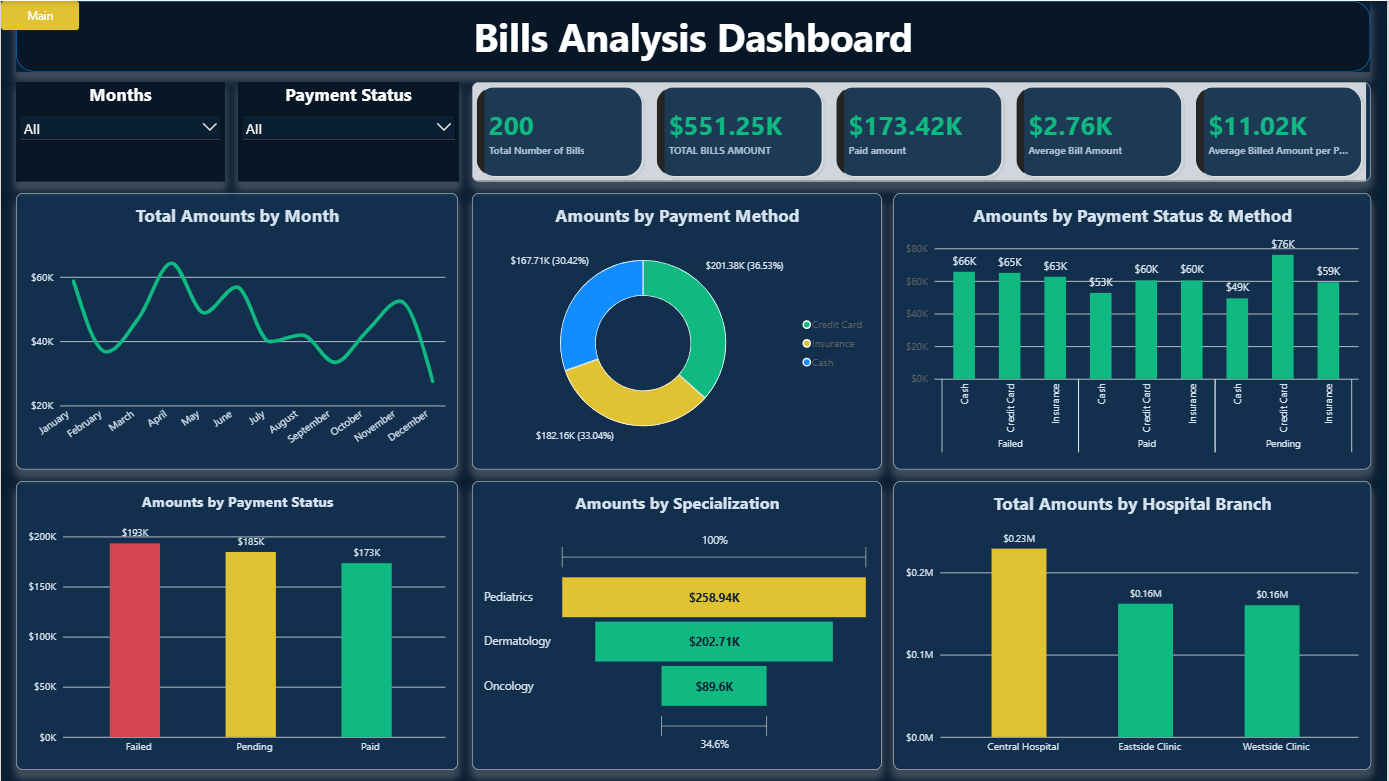

This screenshot's page, from the dashboard's own definition file:
{"tool":"powerbi","page":{"name":"BILLS","canvas":[1920,1080],"ordinal":4},"visuals":[{"type":"columnChart","title":"Amounts by Payment Status","fields":{"Category":["public bills.payment_status"],"Y":["Sum(public bills.amount)"]},"box":[21.3,665.4,612.3,399.7],"z":0},{"type":"columnChart","title":"Total Amounts by Hospital Branch","fields":{"Category":["public doctors.hospital_branch"],"Y":["Table.TOTAL BILLS AMOUNT"]},"box":[1235.2,665.4,661.2,399.7],"z":1000},{"type":"lineChart","title":"Total Amounts by Month","fields":{"Category":["public bills.bill_date.Variation.Date Hierarchy.Month"],"Y":["Sum(public bills.amount)"]},"box":[21.3,265.7,612.3,382.7],"z":2000},{"type":"donutChart","title":"Amounts by Payment Method","fields":{"Category":["public bills.payment_method"],"Y":["Sum(public bills.amount)"]},"box":[652.7,265.7,567.6,382.7],"z":3000},{"type":"clusteredColumnChart","title":"Amounts by Payment Status & Method","fields":{"Category":["public bills.payment_status","public bills.payment_method"],"Y":["Sum(public bills.amount)"]},"box":[1235.2,265.7,661.2,382.7],"z":4000},{"type":"funnel","title":"Amounts by Specialization","fields":{"Category":["public doctors.specialization"],"Y":["Sum(public bills.amount)"]},"box":[652.7,665.4,567.6,399.7],"z":5000},{"type":"cardVisual","fields":{"Data":["Table.Total Number of Bills","Table.TOTAL BILLS AMOUNT","Table.Paid amount","Table.Average Bill Amount","Table.Average Billed Amount per Patient"]},"box":[652.7,112.7,1243.7,138.2],"z":6000},{"type":"shape","box":[21.3,0,1875.1,97.8],"z":7000},{"type":"slicer","title":"Months","fields":{"Values":["public bills.bill_date.Variation.Date Hierarchy.Quarter","public bills.bill_date.Variation.Date Hierarchy.Month"]},"box":[21.3,112.7,289.1,138.2],"z":8000},{"type":"slicer","title":"Payment Status","fields":{"Values":["public bills.payment_status"]},"box":[327.4,112.7,306.1,138.2],"z":9000},{"type":"actionButton","box":[0,0,108.4,40.4],"z":10000}]}

Visuals, with their boxes in screenshot pixels (x1, y1, x2, y2), scaled from the page's 1920x1080 canvas onto the 1389x781 screenshot:
"Amounts by Payment Status" columnChart: left=15, top=481, right=458, bottom=770
"Total Amounts by Hospital Branch" columnChart: left=894, top=481, right=1372, bottom=770
"Total Amounts by Month" lineChart: left=15, top=192, right=458, bottom=469
"Amounts by Payment Method" donutChart: left=472, top=192, right=883, bottom=469
"Amounts by Payment Status & Method" clusteredColumnChart: left=894, top=192, right=1372, bottom=469
"Amounts by Specialization" funnel: left=472, top=481, right=883, bottom=770
cardVisual - Table.Total Number of Bills x Table.TOTAL BILLS AMOUNT: left=472, top=81, right=1372, bottom=181
shape: left=15, top=0, right=1372, bottom=71
"Months" slicer: left=15, top=81, right=225, bottom=181
"Payment Status" slicer: left=237, top=81, right=458, bottom=181
actionButton: left=0, top=0, right=78, bottom=29
